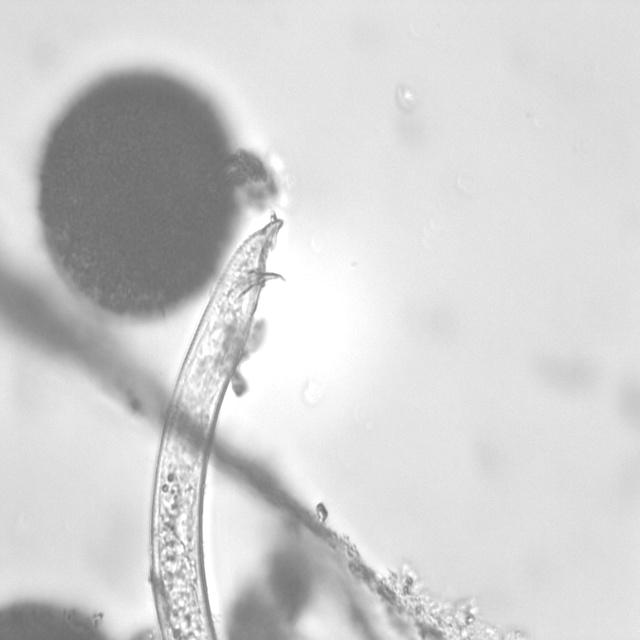Helicotylenchus: (144, 210, 308, 640)
